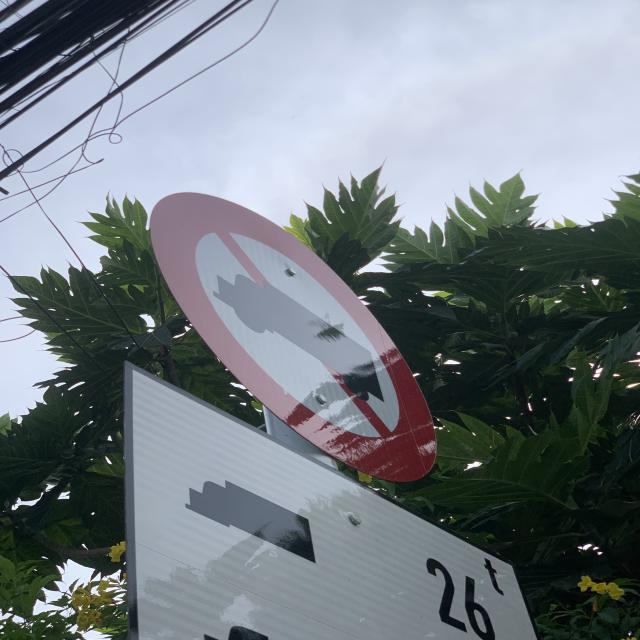Cam_Xe_Tai: (153, 192, 439, 484)
